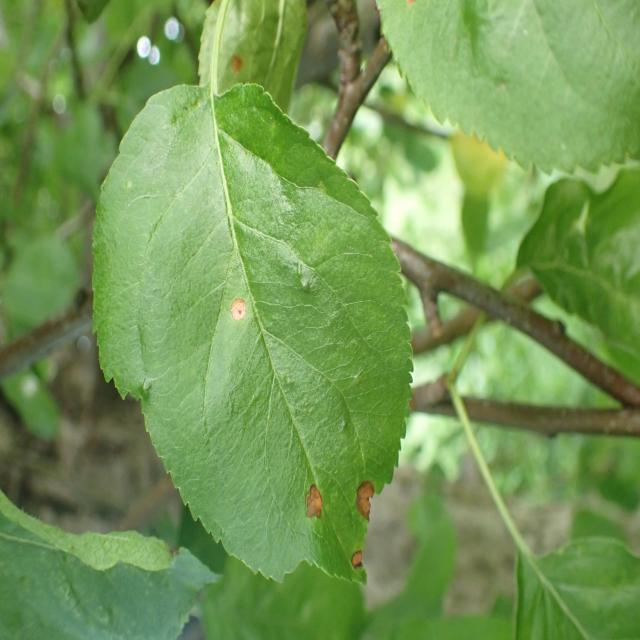Black Rot: (218, 286, 264, 344), (347, 461, 381, 530), (295, 469, 323, 530), (340, 542, 370, 582), (219, 47, 252, 82)
